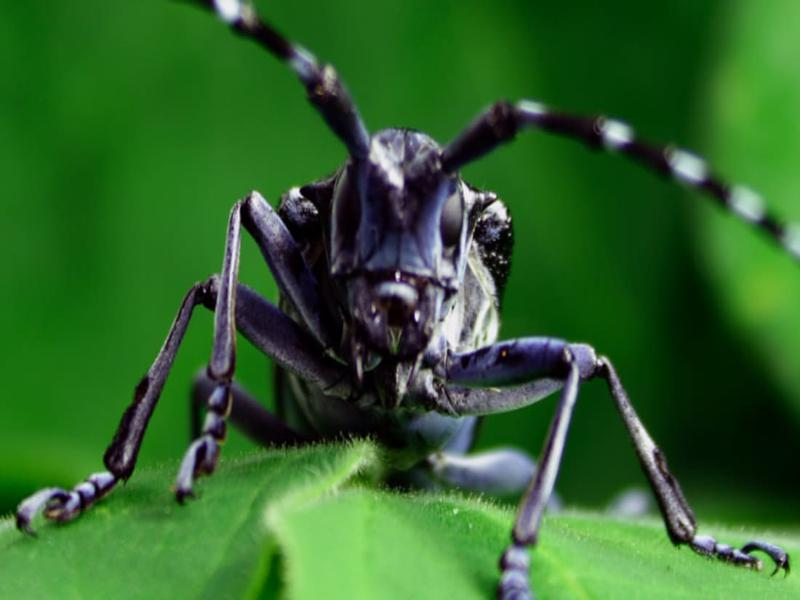Rice_horned_caterpillar: (147, 105, 652, 519)
